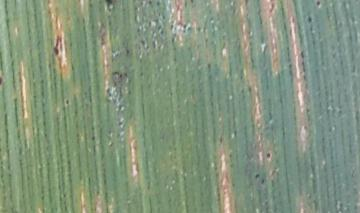tarspot: (170, 34, 179, 52), (99, 30, 107, 47), (104, 1, 114, 12), (51, 45, 60, 56), (202, 36, 209, 50), (287, 62, 294, 76), (138, 39, 148, 48), (268, 3, 275, 15), (300, 61, 307, 73), (267, 110, 273, 123), (298, 50, 305, 61), (105, 87, 112, 98), (218, 133, 224, 145), (285, 45, 291, 57), (172, 52, 178, 63), (124, 48, 131, 57), (238, 73, 245, 82), (206, 62, 212, 72), (265, 152, 272, 160), (135, 26, 142, 34), (195, 25, 202, 33), (146, 19, 151, 30), (260, 177, 266, 186), (306, 14, 311, 24), (169, 22, 174, 32), (253, 173, 260, 180), (87, 2, 94, 9), (90, 134, 96, 142), (111, 70, 119, 76), (159, 28, 165, 36), (156, 24, 162, 32), (247, 85, 252, 94), (107, 18, 112, 27), (64, 98, 70, 105), (154, 1, 161, 7), (117, 73, 124, 79), (243, 1, 250, 7), (138, 70, 144, 77), (186, 25, 192, 32), (302, 74, 308, 81), (305, 106, 310, 114), (315, 1, 321, 7), (139, 1, 145, 7), (161, 14, 166, 21), (181, 23, 186, 29), (1, 75, 3, 88), (147, 1, 152, 6), (181, 29, 186, 34), (188, 1, 194, 4)
